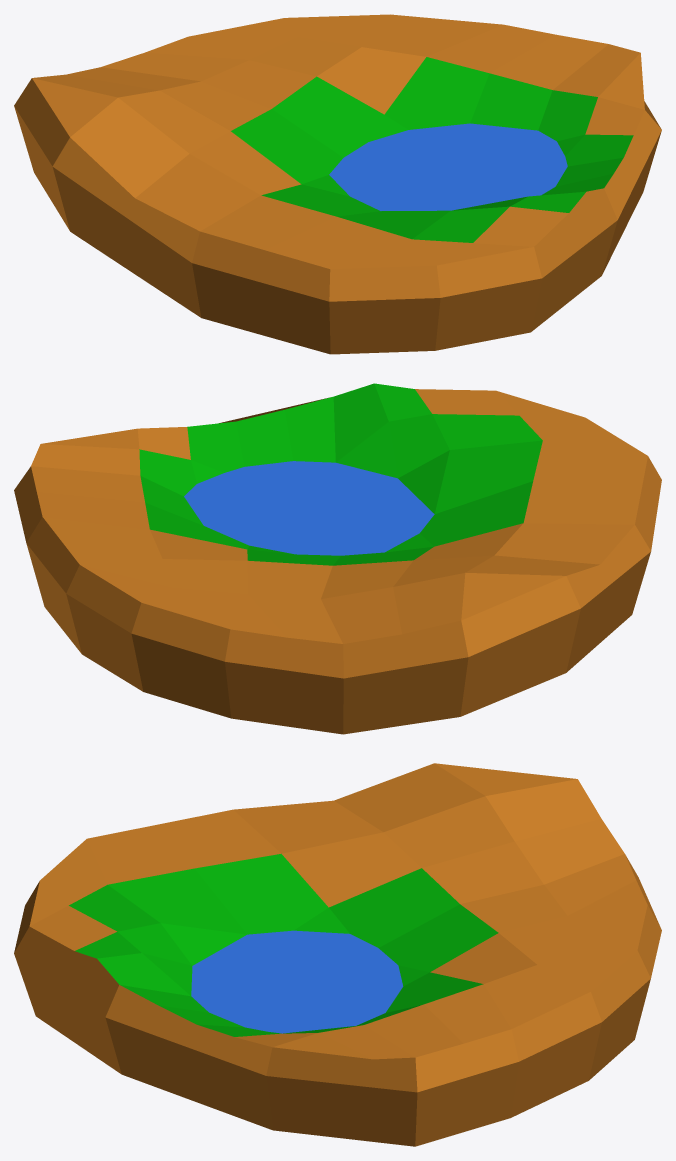
Rendered from WaterIsland.fbx.
The picture shows the model from 3 angles, top to bottom: view 1: azimuth 30°, elevation 25°; view 2: azimuth 150°, elevation 25°; view 3: azimuth 270°, elevation 25°; orthographic projection. The views are drawn at different scales.
Visible parts, largest first — view 1: WaterIsland, Sphere.121; view 2: WaterIsland, Sphere.121; view 3: WaterIsland, Sphere.121.
Boxes of the visible parts, x1,y1,x2,y2 form: WaterIsland: (14, 14, 661, 354); Sphere.121: (329, 123, 567, 210); WaterIsland: (14, 383, 661, 734); Sphere.121: (184, 461, 434, 555); WaterIsland: (14, 763, 661, 1146); Sphere.121: (191, 930, 403, 1033).
Size of the model in its own units: 1258 by 289 by 1230.
